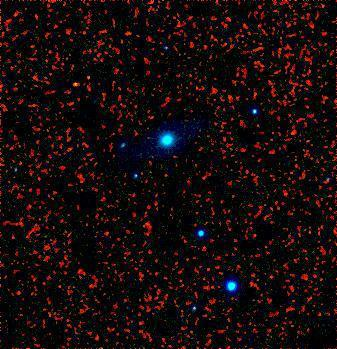star: (70, 69, 100, 99)
